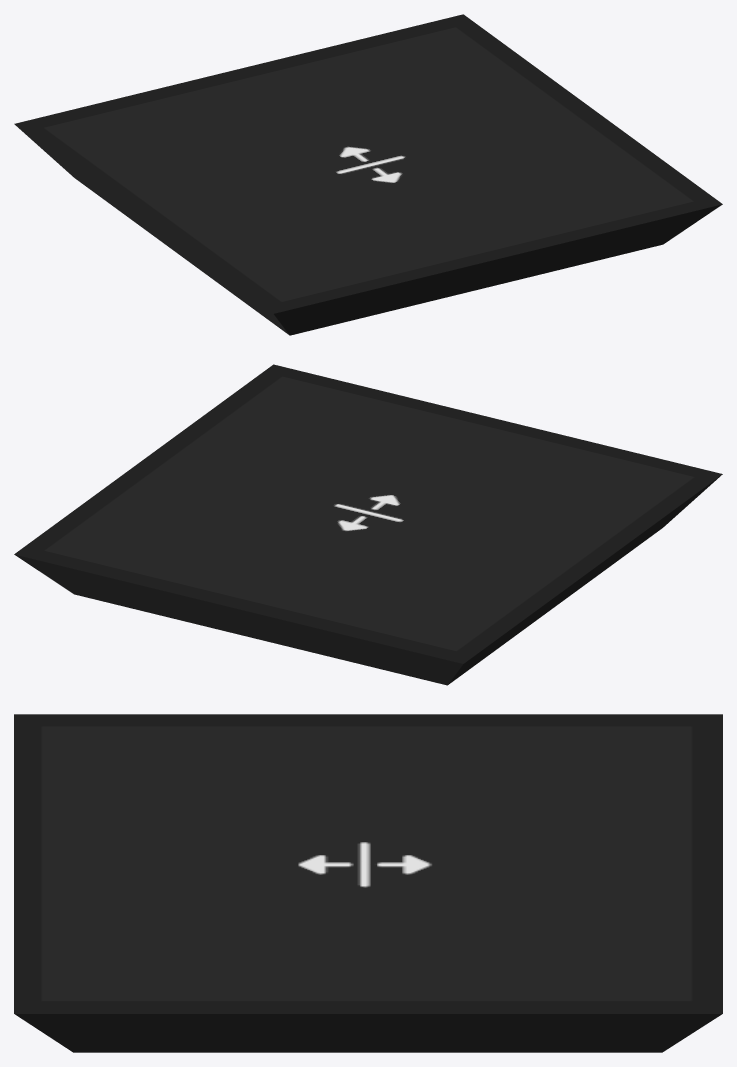
File: platform.glb
3 renders of one model, top to bottom at view 1: azimuth 30°, elevation 25°; view 2: azimuth 150°, elevation 25°; view 3: azimuth 270°, elevation 25°, orthographic. The views are drawn at different scales.
Visible parts, largest first — view 1: Platform_collider; view 2: Platform_collider; view 3: Platform_collider.
Boxes of the visible parts, <box> form: Platform_collider: <box>14,14,722,335</box>; Platform_collider: <box>14,364,722,685</box>; Platform_collider: <box>14,714,722,1052</box>.
Size of the model in its own units: 2 by 0.2 by 2.
1 material, 1 textured.
